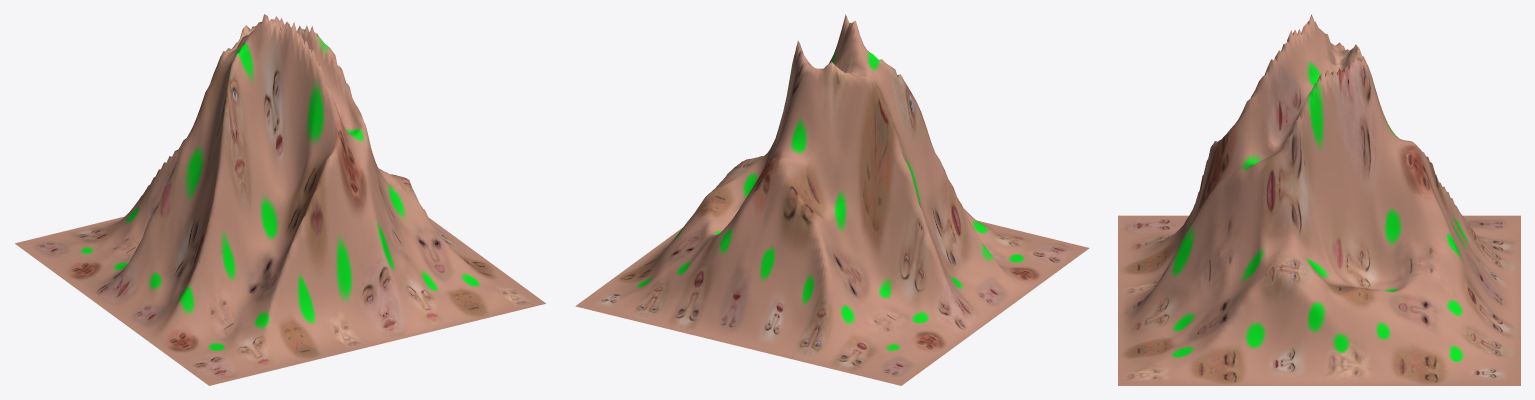
The model's file is asset.gltf.
3 renders of one model, left to right at view 1: azimuth 30°, elevation 25°; view 2: azimuth 150°, elevation 25°; view 3: azimuth 270°, elevation 25°, orthographic. The views are drawn at different scales.
Visible parts, largest first — view 1: 地形; view 2: 地形; view 3: 地形.
Boxes of the visible parts, box(x1,y1,x2,y2) form: 地形: box(15, 14, 545, 385); 地形: box(575, 14, 1089, 385); 地形: box(1118, 14, 1520, 385).
Size of the model in its own units: 95.24 by 72.13 by 95.24.
Materials: 1 (1 with a texture image).
